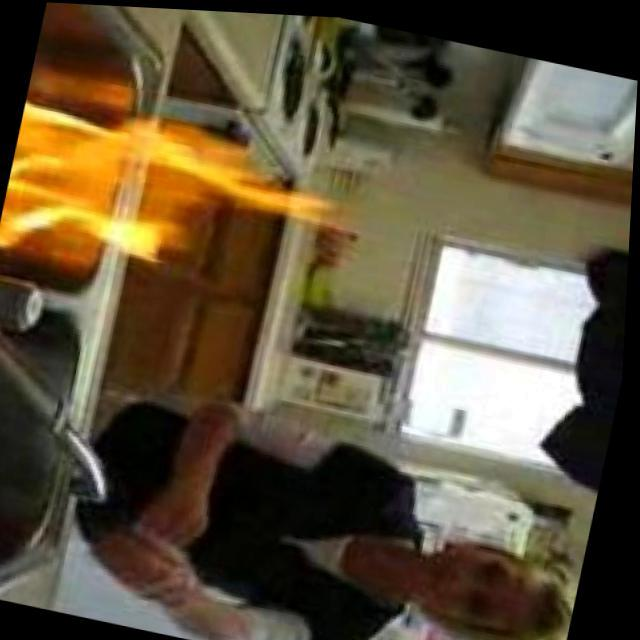fire: (0, 85, 348, 315)
